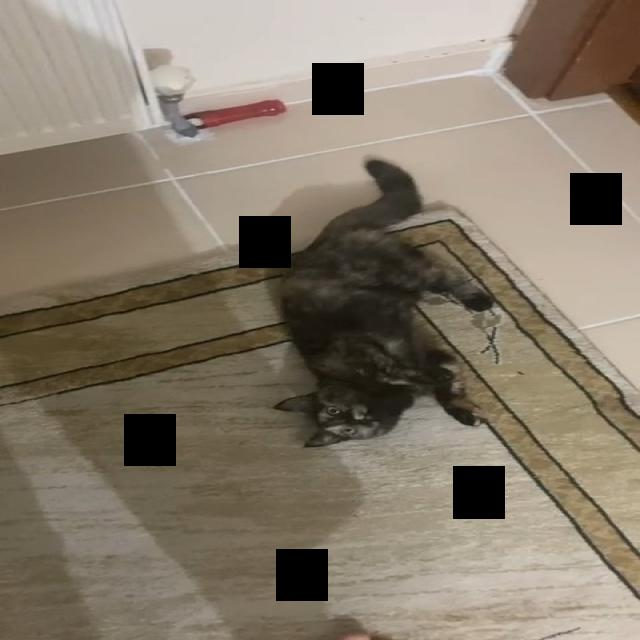authorized: (271, 156, 496, 448)
